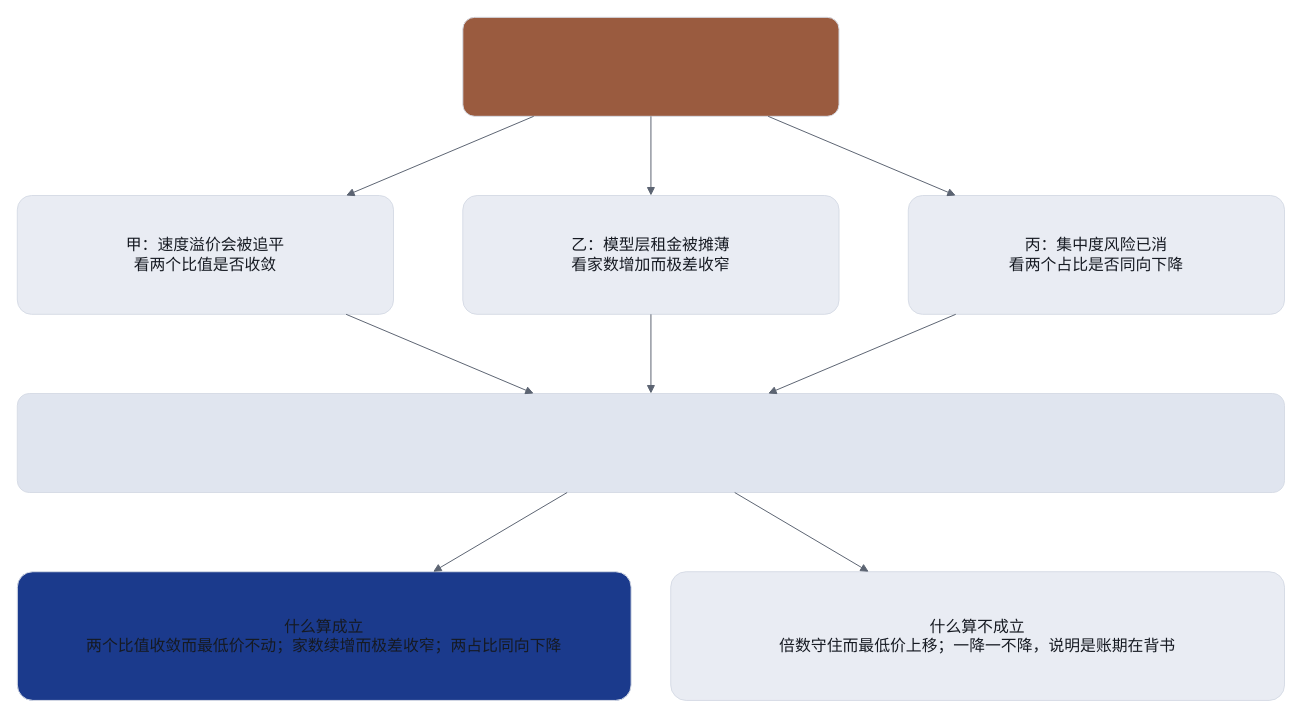
The diagram is 1302 pixels wide and 718 high, and some of its shapes have lost their labels. The shapes that lost their labels are listed below. From the top down, each one's centre as x and y in pixels, then its label:
the point at 650,66: 可证伪的观察条件 不回答接下来会怎样
the point at 650,443: 读数只取公开记录 季报附注、现金流量表、定价页与第三方实测，各自带取数日期
